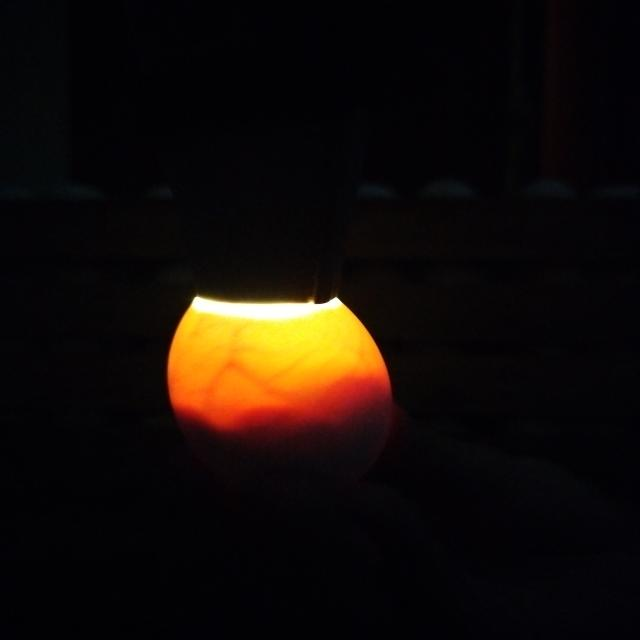Embriao: (179, 395, 401, 502)
